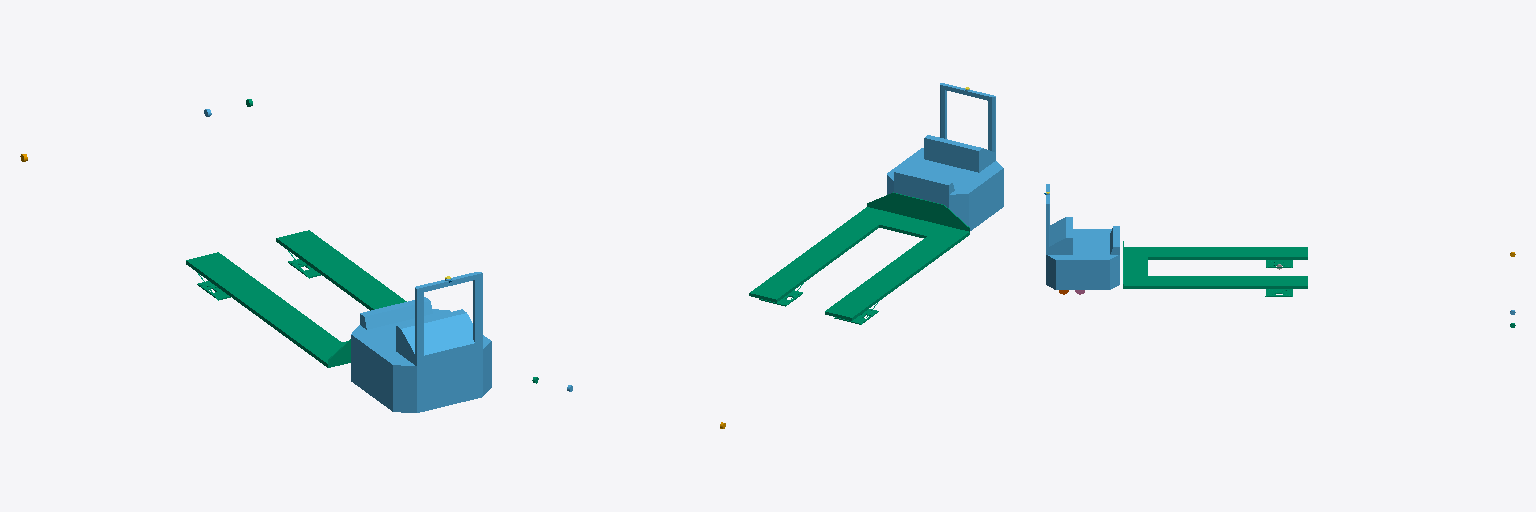
robot.urdf — palletizing_amr:
<?xml version="1.0"?>

<robot name="palletizing_amr">

  <!-- ===================================================== -->
  <!-- BASE LINK -->
  <!-- ===================================================== -->

  <link name="base_footprint"/>

  <joint name="base_footprint_joint" type="fixed">
    <parent link="base_footprint"/>
    <child link="base_link"/>
    <origin xyz="0 0 0" rpy="0 0 0"/>
  </joint>

  <link name="base_link">

    <inertial>
      <origin xyz="0 0 0" rpy="0 0 0"/>
      <mass value="160.0"/>
      <inertia
        ixx="4.7"
        iyy="4.7"
        izz="4.3"
        ixy="0"
        ixz="0"
        iyz="0"/>
    </inertial>

    <visual>
      <origin xyz="0 0 0" rpy="0 0 0"/>
      <geometry>
        <mesh filename="package://palletizing_amr/meshes/base_link.stl" scale="0.001 0.001 0.001"/>
      </geometry>
    </visual>

    <collision>
      <origin xyz="0 0 0" rpy="0 0 0"/>
      <geometry>
        <box size="0.40 0.40 0.49"/>
      </geometry>
    </collision>

  </link>


  <!-- ===================================================== -->
  <!-- FORKLIFT (BEHIND THE MAIN BODY) -->
  <!-- ===================================================== -->

  <link name="forklift">

    <inertial>
      <origin xyz="0 0 0" rpy="0 0 0"/>
      <mass value="6.0"/>

      <inertia
        ixx="0.55"
        iyy="0.08"
        izz="0.62"
        ixy="0"
        ixz="0"
        iyz="0"/>
    </inertial>

    <visual>
      <origin xyz="0 0 0" rpy="0 0 0"/>
      <geometry>
        <mesh filename="package://palletizing_amr/meshes/forklift.stl" scale="0.001 0.001 0.001"/>
      </geometry>
    </visual>
    <!-- <collision>
      <origin xyz="0 0 -0.015" rpy="0 0 0"/>
      <geometry>
        <box size="0.50 1.00 0.015"/>
      </geometry>
    </collision> -->
    <collision>
        <geometry>
            <mesh filename="package://palletizing_amr/meshes/forklift.stl" scale="0.001 0.001 0.001"/>
        </geometry>
    </collision>
  </link>


  <!-- ===================================================== -->
  <!-- MAIN WHEELS -->
  <!-- ===================================================== -->

  <link name="wheel_ML1">
    <inertial>
      <origin xyz="0 0 0"/>
      <mass value="0.45"/>
      <inertia ixx="0.00018" iyy="0.00009" izz="0.00009"
               ixy="0" ixz="0" iyz="0"/>
    </inertial>
    <visual>
      <origin xyz="0 0 0" rpy="0 0 0"/>
      <geometry>
        <mesh filename="package://palletizing_amr/meshes/wheel_ML1.stl" scale="0.001 0.001 0.001"/>
      </geometry>
    </visual>
    <collision>
      <origin xyz="0 0 0" rpy="0 1.5708 0"/>
      <geometry>
        <cylinder radius="0.028" length="0.028"/>
      </geometry>
    </collision>
  </link>


  <link name="wheel_ML2">
    <inertial>
      <origin xyz="0 0 0"/>
      <mass value="0.45"/>
      <inertia ixx="0.00018" iyy="0.00009" izz="0.00009"
               ixy="0" ixz="0" iyz="0"/>
    </inertial>
    <visual>
      <origin xyz="0 0 0" rpy="0 0 0"/>
      <geometry>
        <mesh filename="package://palletizing_amr/meshes/wheel_ML2.stl" scale="0.001 0.001 0.001"/>
      </geometry>
    </visual>
    <collision>
      <origin xyz="0 0 0" rpy="0 1.5708 0"/>
      <geometry>
        <cylinder radius="0.028" length="0.028"/>
      </geometry>
    </collision>
  </link>


  <link name="wheel_MR1">
    <inertial>
      <origin xyz="0 0 0"/>
      <mass value="0.45"/>
      <inertia ixx="0.00018" iyy="0.00009" izz="0.00009"
               ixy="0" ixz="0" iyz="0"/>
    </inertial>
    <visual>
      <origin xyz="0 0 0" rpy="0 0 0"/>
      <geometry>
        <mesh filename="package://palletizing_amr/meshes/wheel_MR1.stl" scale="0.001 0.001 0.001"/>
      </geometry>
    </visual>
    <collision>
      <origin xyz="0 0 0" rpy="0 1.5708 0"/>
      <geometry>
        <cylinder radius="0.028" length="0.028"/>
      </geometry>
    </collision>
  </link>


  <link name="wheel_MR2">
    <inertial>
      <origin xyz="0 0 0"/>
      <mass value="0.45"/>
      <inertia ixx="0.00018" iyy="0.00009" izz="0.00009"
               ixy="0" ixz="0" iyz="0"/>
    </inertial>
    <visual>
      <origin xyz="0 0 0" rpy="0 0 0"/>
      <geometry>
        <mesh filename="package://palletizing_amr/meshes/wheel_MR2.stl" scale="0.001 0.001 0.001"/>
      </geometry>
    </visual>
    <collision>
      <origin xyz="0 0 0" rpy="0 1.5708 0"/>
      <geometry>
        <cylinder radius="0.028" length="0.028"/>
      </geometry>
    </collision>
  </link>


  <!-- FORKLIFT WHEELS -->

  <link name="wheel_FLI">
    <inertial>
      <origin xyz="0 0 0"/>
      <mass value="0.12"/>
      <inertia ixx="0.00002" iyy="0.00001" izz="0.00001"
               ixy="0" ixz="0" iyz="0"/>
    </inertial>
    <visual>
      <origin xyz="0 0 0" rpy="0 0 0"/>
      <geometry>
        <mesh filename="package://palletizing_amr/meshes/wheel_FLI.stl" scale="0.001 0.001 0.001"/>
      </geometry>
    </visual>
    <collision>
      <origin xyz="0 0 0" rpy="0 1.5708 0"/>
      <geometry>
        <cylinder radius="0.014" length="0.014"/>
      </geometry>
    </collision>
  </link>


  <link name="wheel_FLO">
    <inertial>
      <origin xyz="0 0 0"/>
      <mass value="0.12"/>
      <inertia ixx="0.00002" iyy="0.00001" izz="0.00001"
               ixy="0" ixz="0" iyz="0"/>
    </inertial>
    <visual>
      <origin xyz="0 0 0" rpy="0 0 0"/>
      <geometry>
        <mesh filename="package://palletizing_amr/meshes/wheel_FLO.stl" scale="0.001 0.001 0.001"/>
      </geometry>
    </visual>
    <collision>
      <origin xyz="0 0 0" rpy="0 1.5708 0"/>
      <geometry>
        <cylinder radius="0.014" length="0.014"/>
      </geometry>
    </collision>
  </link>


  <link name="wheel_FRI">
    <inertial>
      <origin xyz="0 0 0"/>
      <mass value="0.12"/>
      <inertia ixx="0.00002" iyy="0.00001" izz="0.00001"
               ixy="0" ixz="0" iyz="0"/>
    </inertial>
    <visual>
      <origin xyz="0 0 0" rpy="0 0 0"/>
      <geometry>
        <mesh filename="package://palletizing_amr/meshes/wheel_FRI.stl" scale="0.001 0.001 0.001"/>
      </geometry>
    </visual>
    <collision>
      <origin xyz="0 0 0" rpy="0 1.5708 0"/>
      <geometry>
        <cylinder radius="0.014" length="0.014"/>
      </geometry>
    </collision>
  </link>


  <link name="wheel_FRO">
    <inertial>
      <origin xyz="0 0 0"/>
      <mass value="0.12"/>
      <inertia ixx="0.00002" iyy="0.00001" izz="0.00001"
               ixy="0" ixz="0" iyz="0"/>
    </inertial>
    <visual>
      <origin xyz="0 0 0" rpy="0 0 0"/>
      <geometry>
        <mesh filename="package://palletizing_amr/meshes/wheel_FRO.stl" scale="0.001 0.001 0.001"/>
      </geometry>
    </visual>
    <collision>
      <origin xyz="0 0 0" rpy="0 1.5708 0"/>
      <geometry>
        <cylinder radius="0.014" length="0.014"/>
      </geometry>
    </collision>
  </link>


  <!-- ===================================================== -->
  <!-- JOINTS -->
  <!-- ===================================================== -->

  <joint name="revolute_wheel_MR1" type="continuous">
    <origin xyz="0.17695 -0.10295 -0.24950" rpy="0 0 0"/>
    <parent link="base_link"/>
    <child link="wheel_MR1"/>
    <axis xyz="1 0 0"/>
    <limit effort="1500" velocity="15"/>
    <dynamics damping="0.1" friction="0.1"/>
  </joint>

  <joint name="revolute_wheel_ML1" type="continuous">
    <origin xyz="-0.17565 -0.10295 -0.24950" rpy="0 0 0"/>
    <parent link="base_link"/>
    <child link="wheel_ML1"/>
    <axis xyz="1 0 0"/>
    <limit effort="1500" velocity="15"/>
    <dynamics damping="0.1" friction="0.1"/>
  </joint>

  <joint name="revolute_wheel_MR2" type="continuous">
    <origin xyz="0.17693 -0.01296 -0.24950" rpy="0 0 0"/>
    <parent link="base_link"/>
    <child link="wheel_MR2"/>
    <axis xyz="1 0 0"/>
    <limit effort="1500" velocity="15"/>
    <dynamics damping="0.1" friction="0.1"/>
  </joint>

  <joint name="revolute_wheel_ML2" type="continuous">
    <origin xyz="-0.17565 -0.01295 -0.24950" rpy="0 0 0"/>
    <parent link="base_link"/>
    <child link="wheel_ML2"/>
    <axis xyz="1 0 0"/>
    <limit effort="1500" velocity="15"/>
    <dynamics damping="0.1" friction="0.1"/>
  </joint>


  <joint name="revolute_wheel_FRI" type="continuous">
    <origin xyz="0.14243 0.34920 -0.08000" rpy="0 0 0"/>
    <parent link="forklift"/>
    <child link="wheel_FRI"/>
    <axis xyz="1 0 0"/>
    <dynamics damping="0.05" friction="0.01"/>
  </joint>

  <joint name="revolute_wheel_FLI" type="continuous">
    <origin xyz="-0.13758 0.34920 -0.08000" rpy="0 0 0"/>
    <parent link="forklift"/>
    <child link="wheel_FLI"/>
    <axis xyz="1 0 0"/>
    <dynamics damping="0.05" friction="0.01"/>
  </joint>

  <joint name="revolute_wheel_FRO" type="continuous">
    <origin xyz="0.22743 0.34920 -0.08000" rpy="0 0 0"/>
    <parent link="forklift"/>
    <child link="wheel_FRO"/>
    <axis xyz="1 0 0"/>
    <dynamics damping="0.05" friction="0.01"/>
  </joint>

  <joint name="revolute_wheel_FLO" type="continuous">
    <origin xyz="-0.23258 0.34920 -0.08000" rpy="0 0 0"/>
    <parent link="forklift"/>
    <child link="wheel_FLO"/>
    <axis xyz="1 0 0"/>
    <dynamics damping="0.05" friction="0.01"/>
  </joint>


  <link name="lidar_link">
    <inertial>
      <origin xyz="0 0 0" rpy="0 0 0"/>
      <mass value="0.1"/>
      <inertia ixx="0.00001" iyy="0.00001" izz="0.00001" ixy="0" ixz="0" iyz="0"/>
    </inertial>
    <visual>
      <origin xyz="0 0 0" rpy="0 0 0"/>
      <geometry>
        <cylinder radius="0.01" length="0.003"/>
      </geometry>
    </visual>
    <collision>
      <origin xyz="0 0 0" rpy="0 0 0"/>
      <geometry>
        <cylinder radius="0.01" length="0.003"/>
      </geometry>
    </collision>
  </link>

  <link name="camera_link">
    <inertial>
      <origin xyz="0 0 0" rpy="0 0 0"/>
      <mass value="0.05"/>
      <inertia ixx="0.00001" iyy="0.00001" izz="0.00001" ixy="0" ixz="0" iyz="0"/>
    </inertial>
    <visual>
      <origin xyz="0 0 0" rpy="0 0 0"/>
      <geometry>
        <box size="0.005 0.008 0.005"/>
      </geometry>
    </visual>
    <collision>
      <origin xyz="0 0 0" rpy="0 0 0"/>
      <geometry>
        <box size="0.005 0.008 0.005"/>
      </geometry>
    </collision>
  </link>

  <joint name="lidar_joint" type="fixed">
    <parent link="base_link"/>
    <child link="lidar_link"/>
    <origin xyz="0.0 -0.19 0.248" rpy="0 0 0"/>
  </joint>

  <joint name="camera_joint" type="fixed">
    <parent link="base_link"/>
    <child link="camera_link"/>
    <origin xyz="0.0 -0.205 0.24" rpy="0 0.3854 -1.5708"/>
  </joint>

  <joint name="prismatic_forklift" type="prismatic">
    <origin xyz="-0.00058 0.72555 -0.18250" rpy="0 0 0"/>
    <parent link="base_link"/>
    <child link="forklift"/>

    <axis xyz="0 0 1"/>

    <limit
      lower="0.0"
      upper="0.20"
      effort="5000"
      velocity="0.5"/>

    <dynamics damping="20" friction="0.1"/>
  </joint>

<!-- ===================================================== -->
<!-- BASE SUPPORT CASTERS (independent of forklift lift)   -->
<!-- ===================================================== -->

  <link name="wheel_CL">
    <inertial>
      <origin xyz="0 0 0"/>
      <mass value="0.12"/>
      <inertia ixx="0.00002" iyy="0.00001" izz="0.00001"
              ixy="0" ixz="0" iyz="0"/>
    </inertial>
    <!-- <visual>
      <origin xyz="0 0 0" rpy="0 1.5708 0"/>
      <geometry>
        <cylinder radius="0.028" length="0.02"/>
      </geometry>
    </visual> -->
    <collision>
      <origin xyz="0 0 0" rpy="0 1.5708 0"/>
      <geometry>
        <cylinder radius="0.028" length="0.02"/>
      </geometry>
    </collision>
  </link>

  <link name="wheel_CR">
    <inertial>
      <origin xyz="0 0 0"/>
      <mass value="0.12"/>
      <inertia ixx="0.00002" iyy="0.00001" izz="0.00001"
              ixy="0" ixz="0" iyz="0"/>
    </inertial>
    <!-- <visual>
      <origin xyz="0 0 0" rpy="0 1.5708 0"/>
      <geometry>
        <cylinder radius="0.028" length="0.02"/>
      </geometry>
    </visual> -->
    <collision>
      <origin xyz="0 0 0" rpy="0 1.5708 0"/>
      <geometry>
        <cylinder radius="0.028" length="0.02"/>
      </geometry>
    </collision>
  </link>

  <joint name="revolute_wheel_CL" type="continuous">
    <origin xyz="-0.15 0.3 -0.2495" rpy="0 0 0"/>
    <parent link="base_link"/>
    <child link="wheel_CL"/>
    <axis xyz="1 0 0"/>
    <dynamics damping="0.05" friction="0.01"/>
  </joint>

  <joint name="revolute_wheel_CR" type="continuous">
    <origin xyz="0.15 0.3 -0.2495" rpy="0 0 0"/>
    <parent link="base_link"/>
    <child link="wheel_CR"/>
    <axis xyz="1 0 0"/>
    <dynamics damping="0.05" friction="0.01"/>
  </joint>

  <!-- ===================================================== -->
  <!-- WHEEL FRICTION -->
  <!-- ===================================================== -->

  <gazebo reference="base_link">
    <material>Gazebo/White</material>
  </gazebo>

  <gazebo reference="forklift">
    <material>Gazebo/White</material>
    <mu1>0.8</mu1>
    <mu2>0.8</mu2>
    <kp>100000.0</kp>
    <kd>1.0</kd>
    <minDepth>0.001</minDepth>
  </gazebo>

  <gazebo reference="wheel_ML1">
    <material>Gazebo/DarkGrey</material>
    <mu1>3.5</mu1>
    <mu2>3.5</mu2>
    <kp>100000.0</kp>
    <kd>100.0</kd>
    <minDepth>0.003</minDepth>
    <maxVel>10.0</maxVel>
  </gazebo>

  <gazebo reference="wheel_ML2">
    <material>Gazebo/DarkGrey</material>
    <mu1>3.5</mu1>
    <mu2>3.5</mu2>
    <kp>100000.0</kp>
    <kd>100.0</kd>
    <minDepth>0.003</minDepth>
    <maxVel>10.0</maxVel>
  </gazebo>

  <gazebo reference="wheel_MR1">
    <material>Gazebo/DarkGrey</material>
    <mu1>3.5</mu1>
    <mu2>3.5</mu2>
    <kp>100000.0</kp>
    <kd>100.0</kd>
    <minDepth>0.003</minDepth>
    <maxVel>10.0</maxVel>
  </gazebo>

  <gazebo reference="wheel_MR2">
    <material>Gazebo/DarkGrey</material>
    <mu1>3.5</mu1>
    <mu2>3.5</mu2>
    <kp>100000.0</kp>
    <kd>100.0</kd>
    <minDepth>0.003</minDepth>
    <maxVel>10.0</maxVel>
  </gazebo>

  <gazebo reference="wheel_FLI">
    <material>Gazebo/DarkGrey</material>
    <mu1>0.2</mu1>
    <mu2>0.2</mu2>
    <kp>10000.0</kp>
    <kd>10.0</kd>
  </gazebo>

  <gazebo reference="wheel_FLO">
    <material>Gazebo/DarkGrey</material>
    <mu1>0.2</mu1>
    <mu2>0.2</mu2>
    <kp>10000.0</kp>
    <kd>10.0</kd>
  </gazebo>

  <gazebo reference="wheel_FRI">
    <material>Gazebo/DarkGrey</material>
    <mu1>0.2</mu1>
    <mu2>0.2</mu2>
    <kp>10000.0</kp>
    <kd>10.0</kd>
  </gazebo>

  <gazebo reference="wheel_FRO">
    <material>Gazebo/DarkGrey</material>
    <mu1>0.2</mu1>
    <mu2>0.2</mu2>
    <kp>10000.0</kp>
    <kd>10.0</kd>
  </gazebo>

  <gazebo reference="wheel_CL">
    <material>Gazebo/DarkGrey</material>
    <mu1>0.1</mu1>
    <mu2>0.0</mu2>
    <kp>10000.0</kp>
    <kd>10.0</kd>
  </gazebo>

  <gazebo reference="wheel_CR">
    <material>Gazebo/DarkGrey</material>
    <mu1>0.1</mu1>
    <mu2>0.0</mu2>
    <kp>10000.0</kp>
    <kd>10.0</kd>
  </gazebo>

  <gazebo reference="lidar_link">
    <sensor name="lidar" type="gpu_lidar">
      <topic>/scan</topic>
      <gz_frame_id>lidar_link</gz_frame_id>
      <update_rate>10</update_rate>
      <ray>
        <scan>
          <horizontal>
            <samples>720</samples>
            <resolution>1</resolution>
            <min_angle>-3.14159</min_angle>
            <max_angle>3.14159</max_angle>
          </horizontal>
          <vertical>
            <samples>16</samples>
            <resolution>1</resolution>
            <min_angle>-0.26</min_angle>
            <max_angle>0.26</max_angle>
          </vertical>
        </scan>
        <range>
          <min>0.08</min>
          <max>10.0</max>
          <resolution>0.01</resolution>
        </range>
      </ray>
    </sensor>
  </gazebo>

  <gazebo reference="camera_link">
    <sensor name="camera" type="camera">
      <topic>/camera/image_raw</topic>
      <gz_frame_id>camera_link</gz_frame_id>
      <update_rate>30</update_rate>
      <camera>
        <horizontal_fov>1.047</horizontal_fov>
        <image>
          <width>640</width>
          <height>480</height>
          <format>R8G8B8</format>
        </image>
        <clip>
          <near>0.1</near>
          <far>10.0</far>
        </clip>
      </camera>
    </sensor>
  </gazebo>

    <!-- FORWARD LOAD STABILIZERS — fixed to base_link, positioned under the
      load's actual center of mass (not the forklift link) so they stay
      grounded even after the fork lifts. This is what closes the tipping
      moment gap: your existing wheel_CL/CR at y=0.3 are ~0.4m short of
      where the load (fork joint at y=0.726, pallet further out) sits. -->

  <link name="wheel_stabL">
    <inertial>
      <origin xyz="0 0 0"/>
      <mass value="0.12"/>
      <inertia ixx="0.00002" iyy="0.00001" izz="0.00001"
              ixy="0" ixz="0" iyz="0"/>
    </inertial>
    <collision>
      <origin xyz="0 0 0" rpy="0 1.5708 0"/>
      <geometry>
        <cylinder radius="0.028" length="0.02"/>
      </geometry>
    </collision>
  </link>

  <link name="wheel_stabR">
    <inertial>
      <origin xyz="0 0 0"/>
      <mass value="0.12"/>
      <inertia ixx="0.00002" iyy="0.00001" izz="0.00001"
              ixy="0" ixz="0" iyz="0"/>
    </inertial>
    <collision>
      <origin xyz="0 0 0" rpy="0 1.5708 0"/>
      <geometry>
        <cylinder radius="0.028" length="0.02"/>
      </geometry>
    </collision>
  </link>

  <joint name="revolute_wheel_stabL" type="continuous">
    <origin xyz="-0.22 0.68 -0.2495" rpy="0 0 0"/>
    <parent link="base_link"/>
    <child link="wheel_stabL"/>
    <axis xyz="1 0 0"/>
    <dynamics damping="0.05" friction="0.01"/>
  </joint>

  <joint name="revolute_wheel_stabR" type="continuous">
    <origin xyz="0.22 0.68 -0.2495" rpy="0 0 0"/>
    <parent link="base_link"/>
    <child link="wheel_stabR"/>
    <axis xyz="1 0 0"/>
    <dynamics damping="0.05" friction="0.01"/>
  </joint>

  <gazebo reference="wheel_stabL">
    <material>Gazebo/DarkGrey</material>
    <mu1>0.0</mu1>
    <mu2>0.0</mu2>
    <kp>50000.0</kp>
    <kd>50.0</kd>
    <minDepth>0.001</minDepth>
  </gazebo>

  <gazebo reference="wheel_stabR">
    <material>Gazebo/DarkGrey</material>
    <mu1>0.0</mu1>
    <mu2>0.0</mu2>
    <kp>50000.0</kp>
    <kd>50.0</kd>
    <minDepth>0.001</minDepth>
  </gazebo>

   <!-- # counter weight to prevent tipping over when lifting heavy loads

  <link name="counterweight">
  <inertial>
    <origin xyz="0 0 0"/>
    <mass value="50.0"/>
    <inertia ixx="0.05" iyy="0.05" izz="0.05" ixy="0" ixz="0" iyz="0"/>
  </inertial>
  <visual>
    <geometry>
      <box size="0.3 0.15 0.15"/>
    </geometry>
  </visual>
  <collision>
    <geometry>
      <box size="0.3 0.15 0.15"/>
    </geometry>
  </collision>
</link>

<joint name="counterweight_joint" type="fixed">
  <parent link="base_link"/>
  <child link="counterweight"/>
  <origin xyz="0 -0.28 -0.15" rpy="0 0 0"/>
</joint> -->

  <ros2_control name="GazeboSimSystem" type="system">

    <hardware>
      <plugin>gz_ros2_control/GazeboSimSystem</plugin>
    </hardware>

    <joint name="revolute_wheel_ML1">
      <command_interface name="velocity"/>
      <state_interface name="position"/>
      <state_interface name="velocity"/>
      <state_interface name="effort"/>
    </joint>

    <joint name="revolute_wheel_ML2">
      <command_interface name="velocity"/>
      <state_interface name="position"/>
      <state_interface name="velocity"/>
      <state_interface name="effort"/>
    </joint>

    <joint name="revolute_wheel_MR1">
      <command_interface name="velocity"/>
      <state_interface name="position"/>
      <state_interface name="velocity"/>
      <state_interface name="effort"/>
    </joint>

    <joint name="revolute_wheel_MR2">
      <command_interface name="velocity"/>
      <state_interface name="position"/>
      <state_interface name="velocity"/>
      <state_interface name="effort"/>
    </joint>

    <joint name="prismatic_forklift">
      <command_interface name="effort"/>
      <state_interface name="position"/>
      <state_interface name="velocity"/>
    </joint>

  </ros2_control>

  <gazebo>
    <plugin filename="libgz_ros2_control-system.so"
            name="gz_ros2_control::GazeboSimROS2ControlPlugin">
      <parameters>/home/mb/amr_ws/install/palletizing_amr/share/palletizing_amr/config/controller.yaml</parameters>
    </plugin>
  </gazebo>

</robot>

--- Facts derived from the render (not from the file) ---
Views: 3 orthographic renders of the robot side by side, from view 1: azimuth 30°, elevation 25°; view 2: azimuth 150°, elevation 25°; view 3: azimuth 270°, elevation 25°.
Model palletizing_amr with 17 links and 16 joints (12 continuous, 1 prismatic, 3 fixed), rooted at base_footprint, posed all joints at 0.
Links seen in each view (by area): view 1: base_link, forklift; view 2: forklift, base_link; view 3: forklift, base_link.
Boxes of the visible links, bbox=[...] form: base_link: bbox=[351, 272, 491, 412]; forklift: bbox=[186, 230, 406, 367]; forklift: bbox=[749, 192, 969, 324]; base_link: bbox=[887, 83, 1003, 230]; forklift: bbox=[1123, 241, 1307, 296]; base_link: bbox=[1046, 184, 1119, 289].
Size in the robot's own frame: 0.934 by 2.57 by 0.527 metres.
10 mesh visuals loaded from 10 distinct referenced files (10 binary STL).
